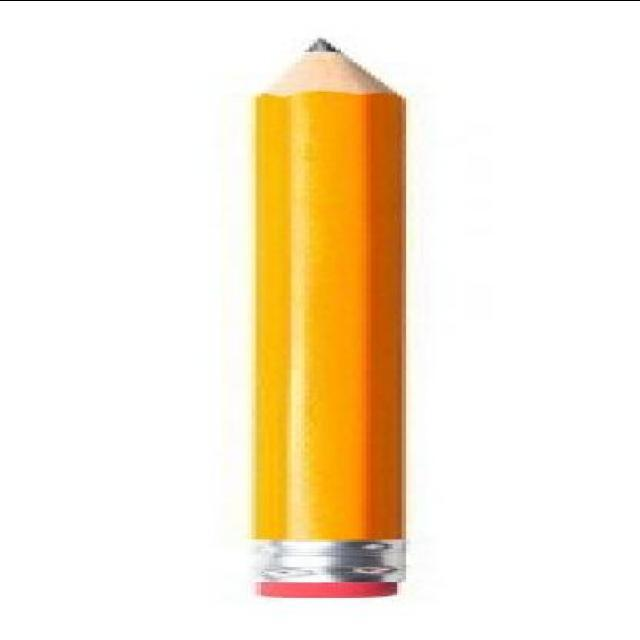pencil: (230, 30, 424, 104)
